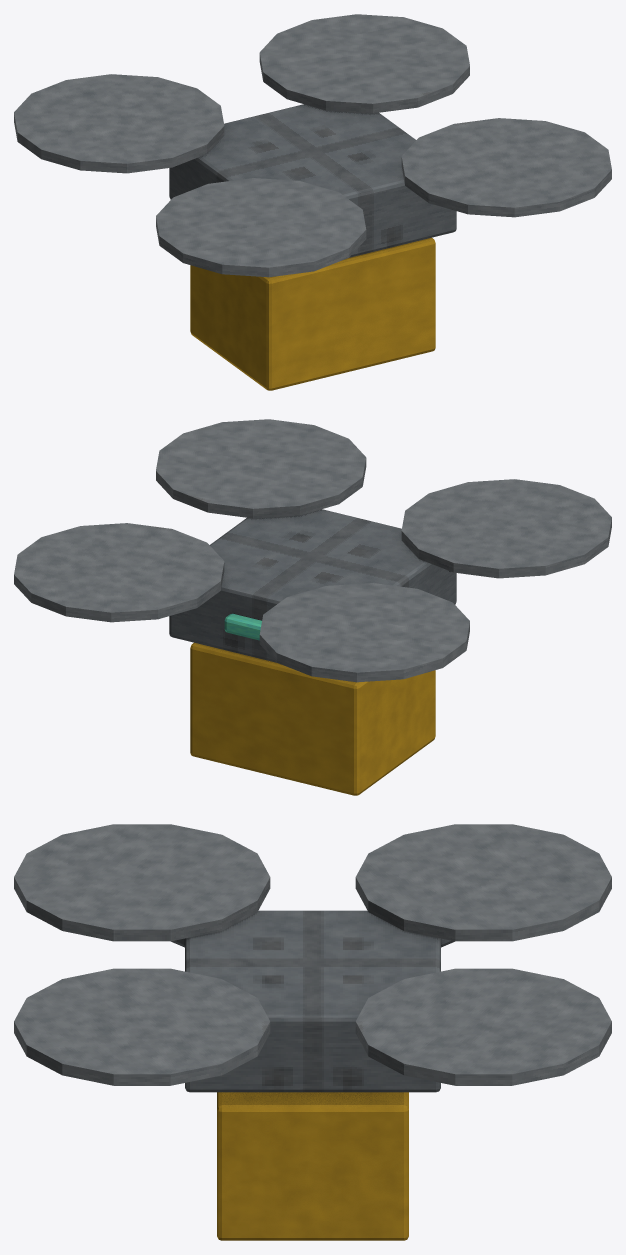
The model's file is base_cargo_drone.glb.
3 views of the same model, one above another, from view 1: azimuth 30°, elevation 25°; view 2: azimuth 150°, elevation 25°; view 3: azimuth 270°, elevation 25° (orthographic). The views are drawn at different scales.
Parts seen in each view (by area): view 1: base_cargo_drone.001; view 2: base_cargo_drone.001; view 3: base_cargo_drone.001.
Boxes of the visible parts, left/top/right/bottom form: base_cargo_drone.001: left=14, top=14, right=611, bottom=390; base_cargo_drone.001: left=14, top=419, right=611, bottom=795; base_cargo_drone.001: left=14, top=824, right=611, bottom=1240.
Bounding box in the file's own units: 1.38 × 0.63 × 1.4.
Materials: 3 (3 with a texture image).
